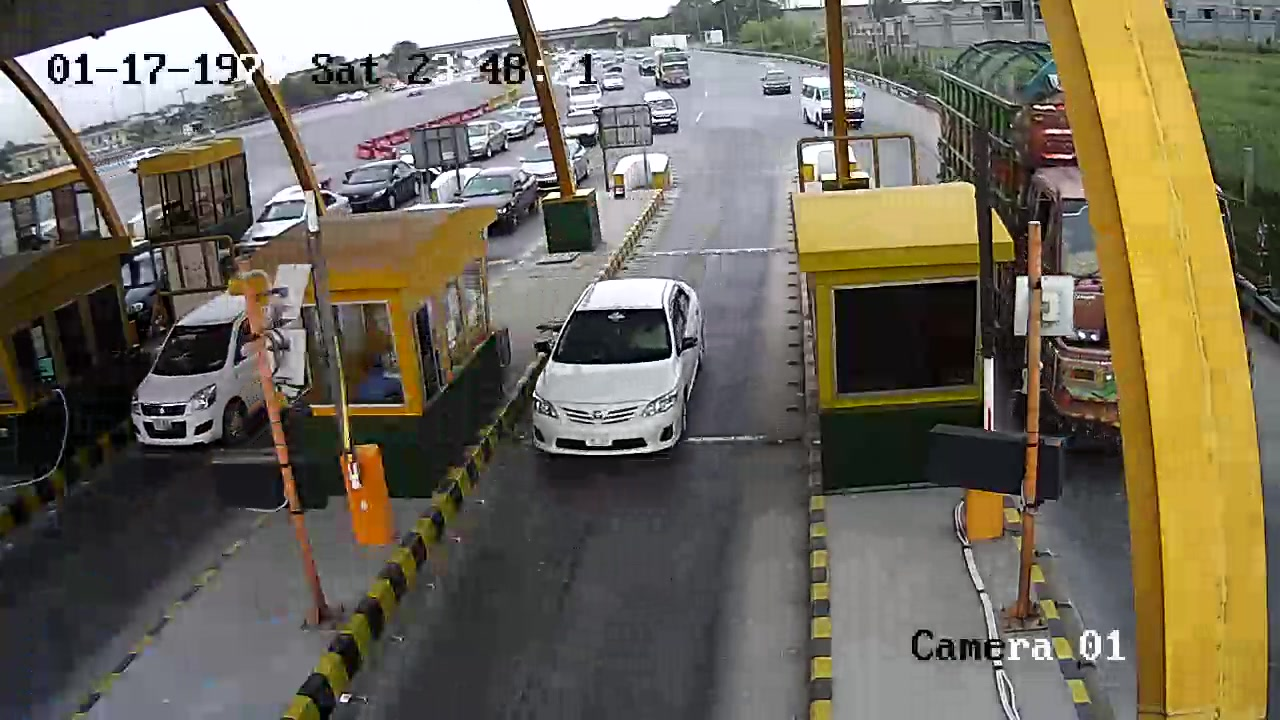F1: (516, 270, 709, 477)
